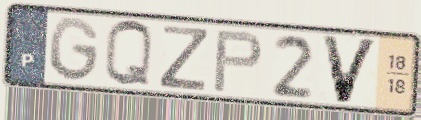2: (270, 33, 316, 99)
G: (47, 15, 102, 85)
P: (211, 28, 266, 95)
Q: (102, 17, 156, 90)
V: (318, 32, 382, 106)
Z: (156, 22, 212, 93)
